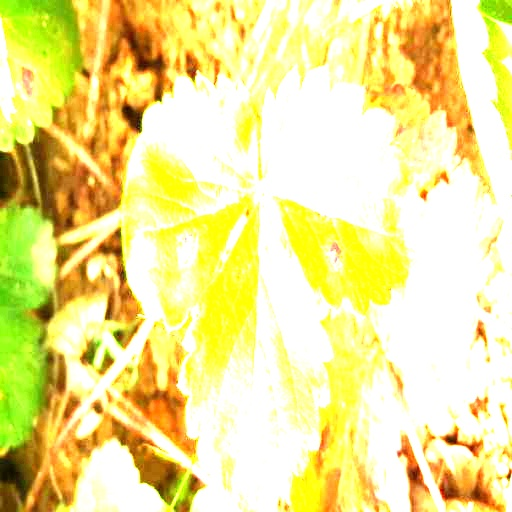Leaf Spot: (177, 199, 335, 511), (260, 63, 426, 317), (120, 69, 259, 331), (285, 294, 402, 511)
